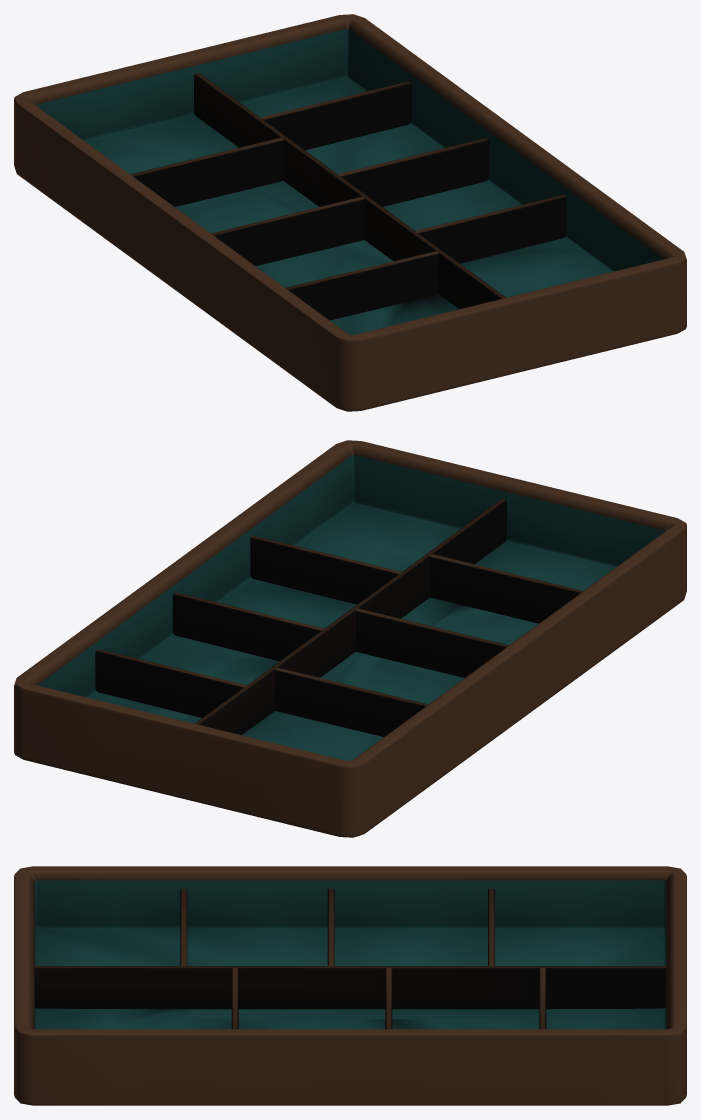
The model's file is parts_tray.glb.
The picture shows the model from 3 angles, top to bottom: view 1: azimuth 30°, elevation 25°; view 2: azimuth 150°, elevation 25°; view 3: azimuth 270°, elevation 25°; orthographic projection.
Parts seen in each view (by area): view 1: PartsTray_Body, PartsTray_Divider; view 2: PartsTray_Body, PartsTray_Divider; view 3: PartsTray_Body, PartsTray_Divider.
Part boxes in pixels (x1,y1,x2,y2): PartsTray_Body: [14, 14, 686, 411]; PartsTray_Divider: [130, 73, 566, 320]; PartsTray_Body: [14, 440, 686, 837]; PartsTray_Divider: [95, 499, 583, 736]; PartsTray_Body: [14, 866, 686, 1105]; PartsTray_Divider: [34, 888, 666, 1029].
Size of the model in its own units: 0.125 by 0.025 by 0.21.
